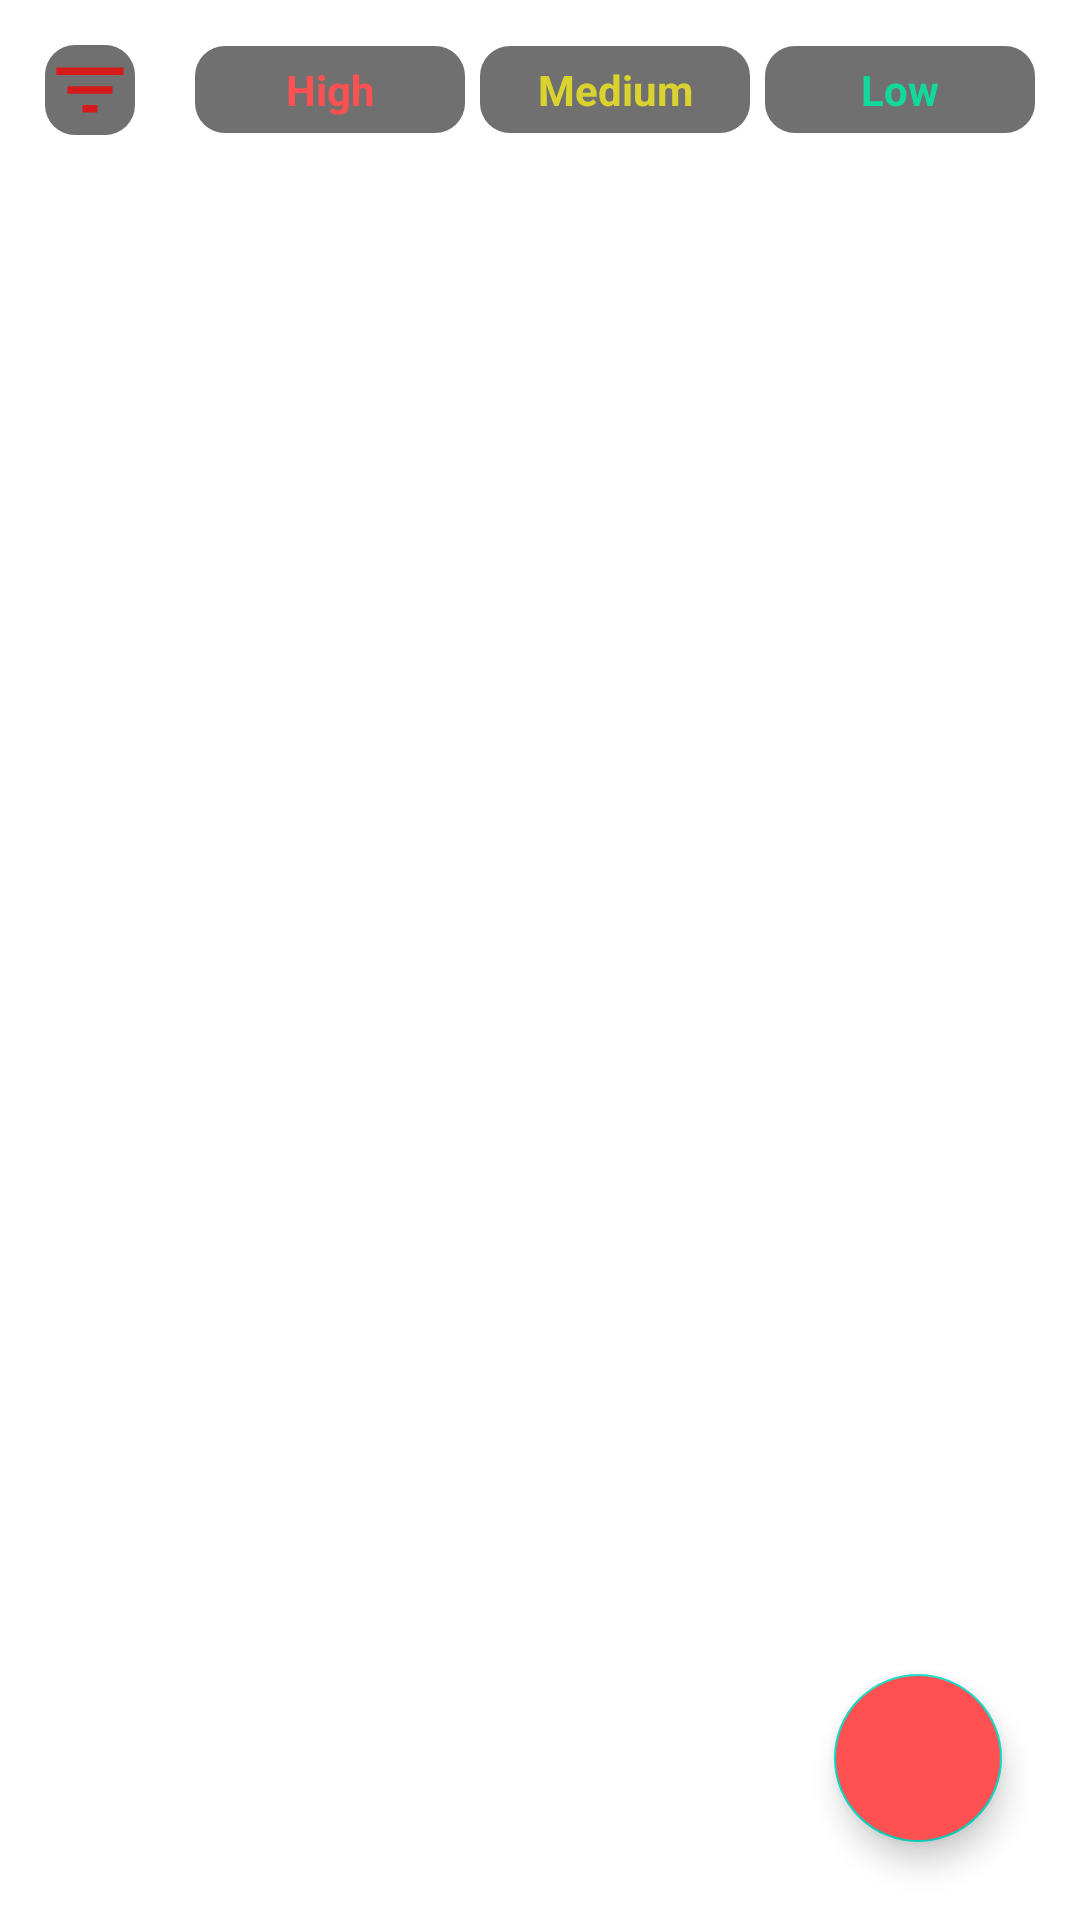

Point at icon controls on the screen. Image size 1080px×1920px, points as (x,y).
filter: (90,90)
